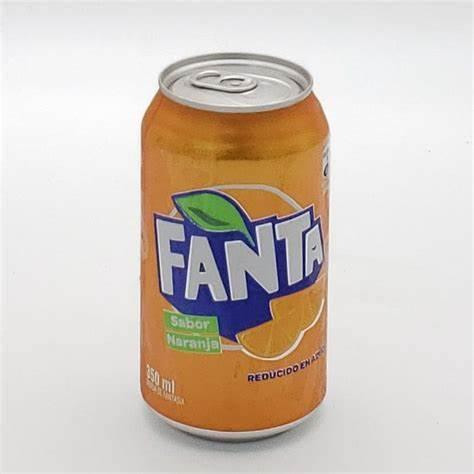metal: (140, 53, 330, 440)
